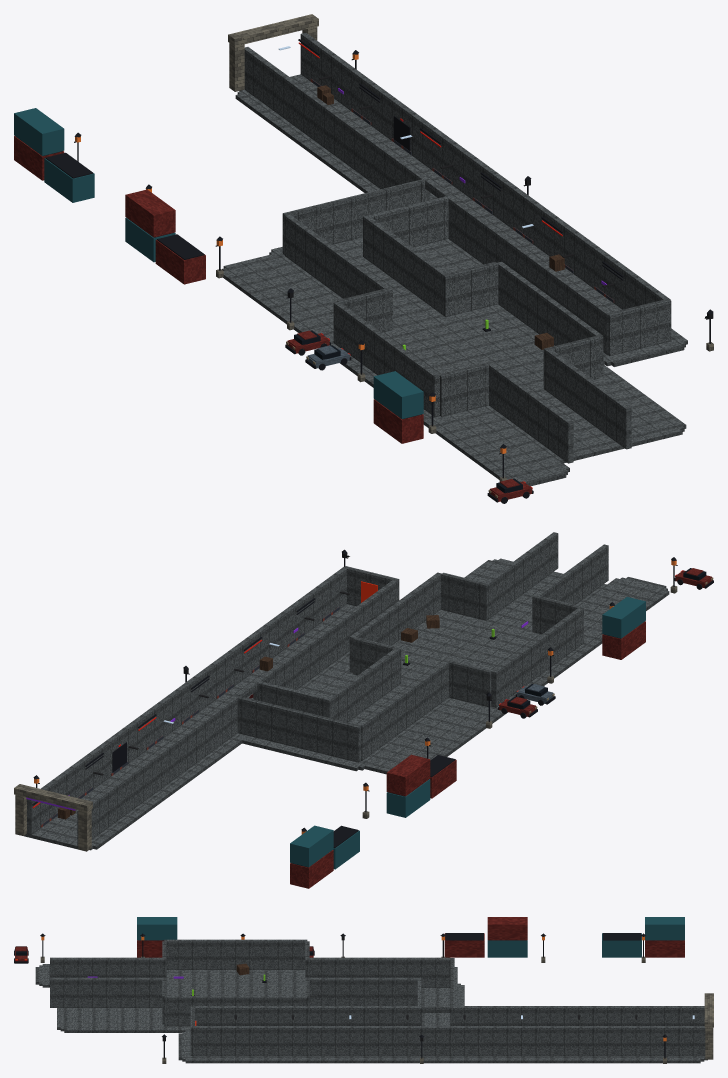
Rendered from Maribor_Route_C.fbx.
3 views of the same model, one above another, from view 1: azimuth 30°, elevation 25°; view 2: azimuth 150°, elevation 25°; view 3: azimuth 270°, elevation 25° (orthographic). The views are drawn at different scales.
Parts seen in each view (by area): view 1: PL_C_Ground_101, PL_C_City_088, PL_C_City_091, PL_C_City_090, PL_C_City_085, PL_C_City_086, PL_C_City_087, PL_C_City_092, PL_C_Ground_100, PL_C_City_095, PL_C_City_094, PL_C_City_089 (+5 smaller); view 2: PL_C_Ground_101, PL_C_City_088, PL_C_City_091, PL_C_City_090, PL_C_City_085, PL_C_City_086, PL_C_City_092, PL_C_Ground_100, PL_C_City_087, PL_C_City_089, PL_C_City_095, PL_C_City_094 (+4 smaller); view 3: PL_C_City_088, PL_C_Ground_101, PL_C_City_086, PL_C_City_087, PL_C_City_090, PL_C_City_085, PL_C_City_091, PL_C_City_092, PL_C_Ground_100, PL_C_City_095, PL_C_City_094, PL_C_City_096 (+3 smaller).
Part boxes in pixels (box(x1,y1,x2,y2)): PL_C_Ground_101: box(222, 237, 686, 481); PL_C_City_088: box(497, 240, 671, 376); PL_C_City_091: box(428, 336, 631, 481); PL_C_City_090: box(215, 195, 450, 330); PL_C_City_085: box(228, 14, 386, 147); PL_C_City_086: box(324, 92, 487, 203); PL_C_City_087: box(425, 166, 589, 281); PL_C_City_092: box(333, 262, 498, 416); PL_C_Ground_100: box(235, 74, 687, 366); PL_C_City_095: box(125, 189, 205, 284); PL_C_City_094: box(14, 108, 94, 202); PL_C_City_089: box(145, 178, 430, 254); PL_C_Ground_101: box(242, 560, 667, 774); PL_C_City_088: box(274, 566, 441, 672); PL_C_City_091: box(441, 532, 677, 634); PL_C_City_090: box(254, 648, 492, 760); PL_C_City_085: box(14, 747, 152, 851); PL_C_City_086: box(97, 683, 239, 795); PL_C_City_092: box(353, 607, 583, 707); PL_C_Ground_100: box(24, 604, 356, 850); PL_C_City_087: box(181, 618, 328, 724); PL_C_City_089: box(236, 695, 369, 818); PL_C_City_095: box(386, 754, 456, 817); PL_C_City_094: box(290, 825, 359, 888); PL_C_City_088: box(164, 996, 307, 1056); PL_C_Ground_101: box(39, 965, 464, 1032); PL_C_City_086: box(450, 1006, 593, 1056); PL_C_City_087: box(307, 1005, 450, 1063); PL_C_City_090: box(307, 933, 450, 1025); PL_C_City_085: box(593, 993, 713, 1063); PL_C_City_091: box(40, 933, 166, 1024); PL_C_City_092: box(164, 933, 309, 1005); PL_C_Ground_100: box(178, 1030, 707, 1063); PL_C_City_095: box(444, 917, 527, 957); PL_C_City_094: box(602, 917, 684, 957); PL_C_City_096: box(137, 917, 177, 957).
Bounding box in the file's own units: 37.75 × 6.2 × 97.87.
